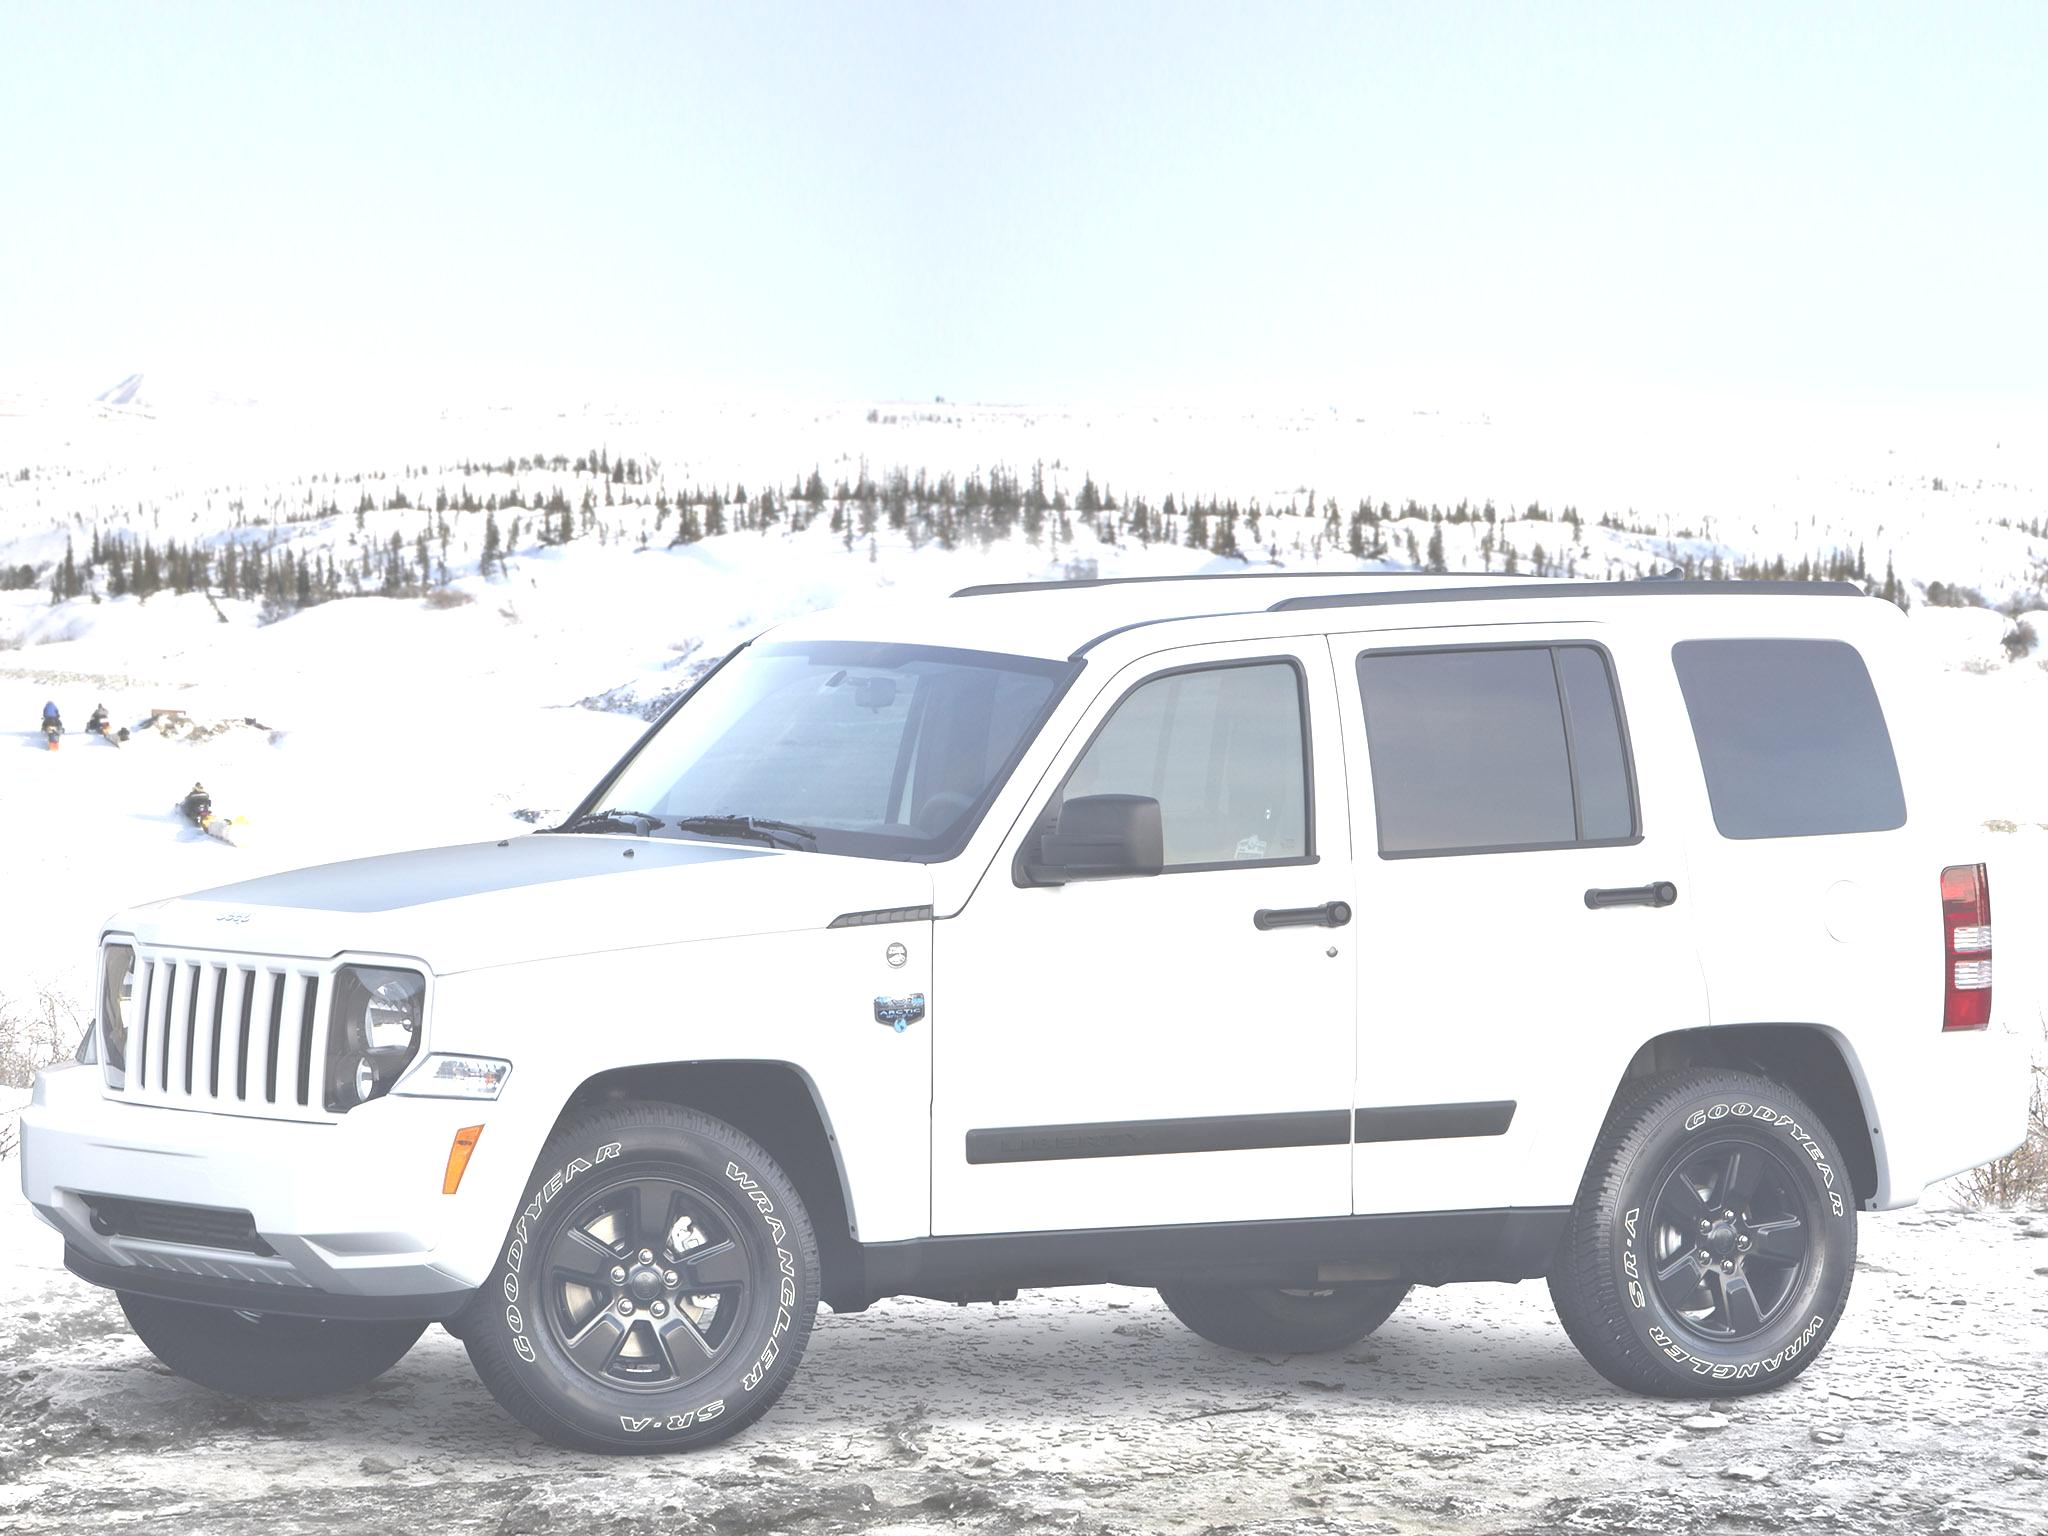jeep: (188, 894, 277, 945)
